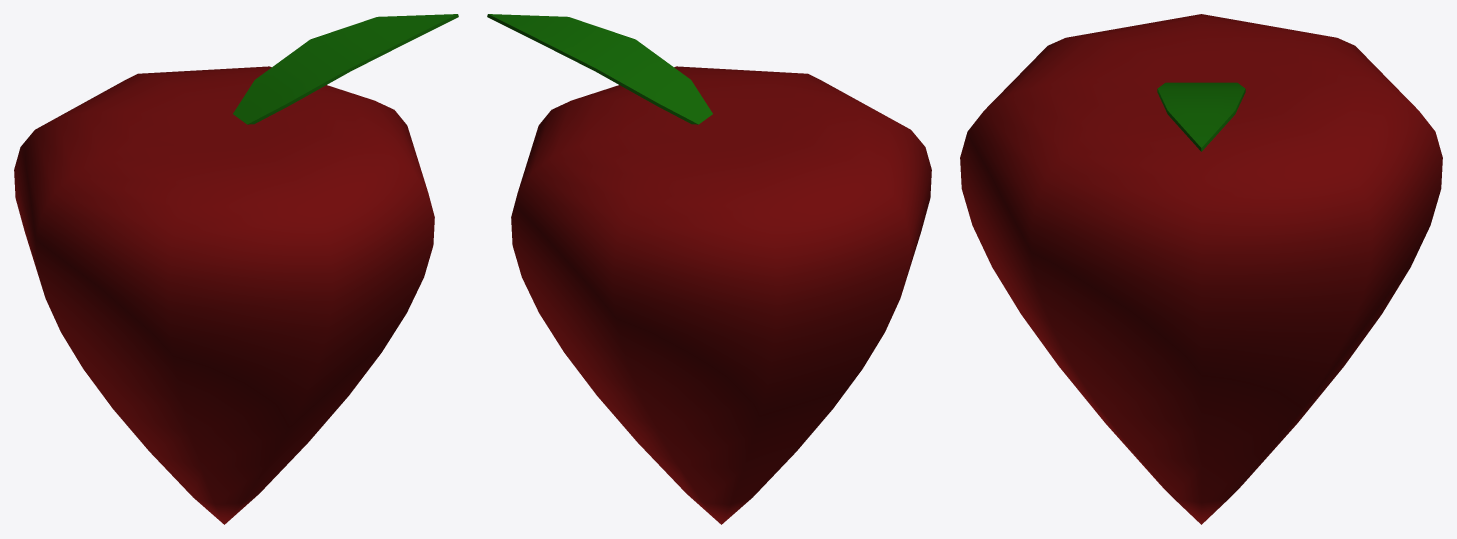
File: 3D_Strawberry.FBX
3 views of the same model, side by side, from view 1: azimuth 30°, elevation 25°; view 2: azimuth 150°, elevation 25°; view 3: azimuth 270°, elevation 25° (orthographic). The views are drawn at different scales.
Visible parts, largest first — view 1: 3D_Strawberry; view 2: 3D_Strawberry; view 3: 3D_Strawberry.
Boxes of the visible parts, x1=… form: 3D_Strawberry: x1=14, y1=14, x2=458, y2=524; 3D_Strawberry: x1=487, y1=14, x2=931, y2=524; 3D_Strawberry: x1=960, y1=14, x2=1442, y2=524.
Size of the model in its own units: 135 by 139 by 120.
